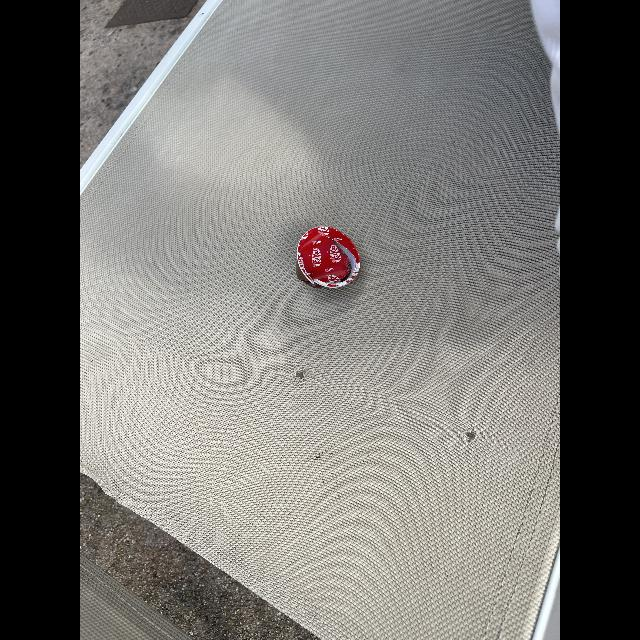damaged_capsule: (288, 222, 370, 292)
